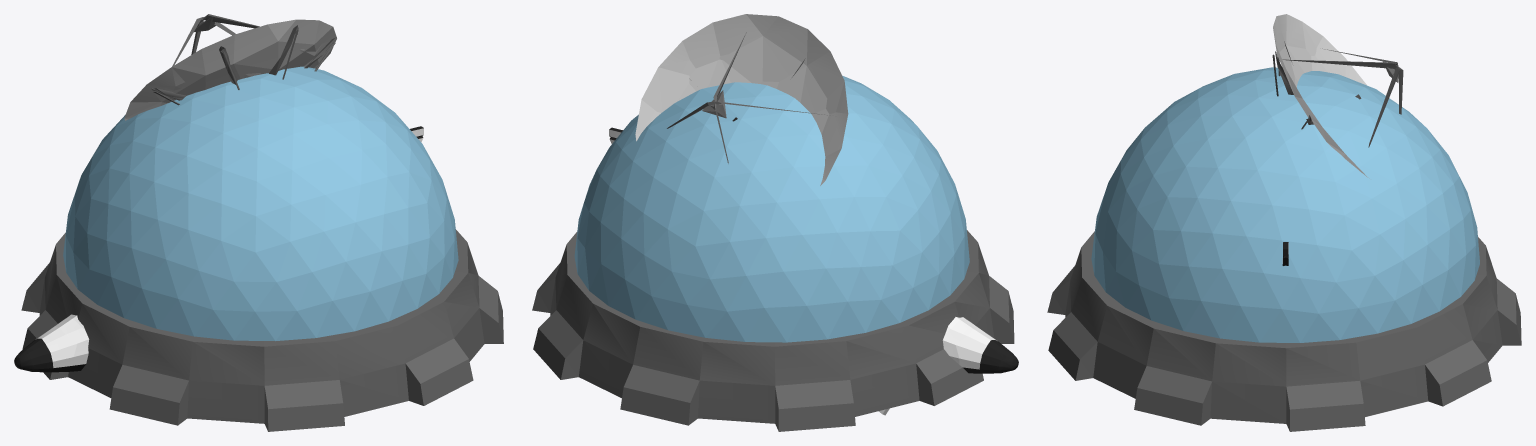
The model's file is Props-05.fbx.
3 renders of one model, left to right at view 1: azimuth 30°, elevation 25°; view 2: azimuth 150°, elevation 25°; view 3: azimuth 270°, elevation 25°, orthographic.
Visible parts, largest first — view 1: Base-01, Dish-01, Shuttle-01; view 2: Base-01, Dish-01, Shuttle-01; view 3: Base-01, Dish-01.
Boxes of the visible parts, x1,y1,x2,y2 form: Base-01: (21, 66, 503, 431); Dish-01: (124, 14, 336, 120); Shuttle-01: (14, 126, 423, 372); Base-01: (532, 75, 1014, 431); Dish-01: (635, 14, 848, 185); Shuttle-01: (609, 127, 1018, 373); Base-01: (1047, 67, 1521, 431); Dish-01: (1272, 14, 1403, 178).
Bounding box in the file's own units: 63.45 × 45.07 × 58.03.
